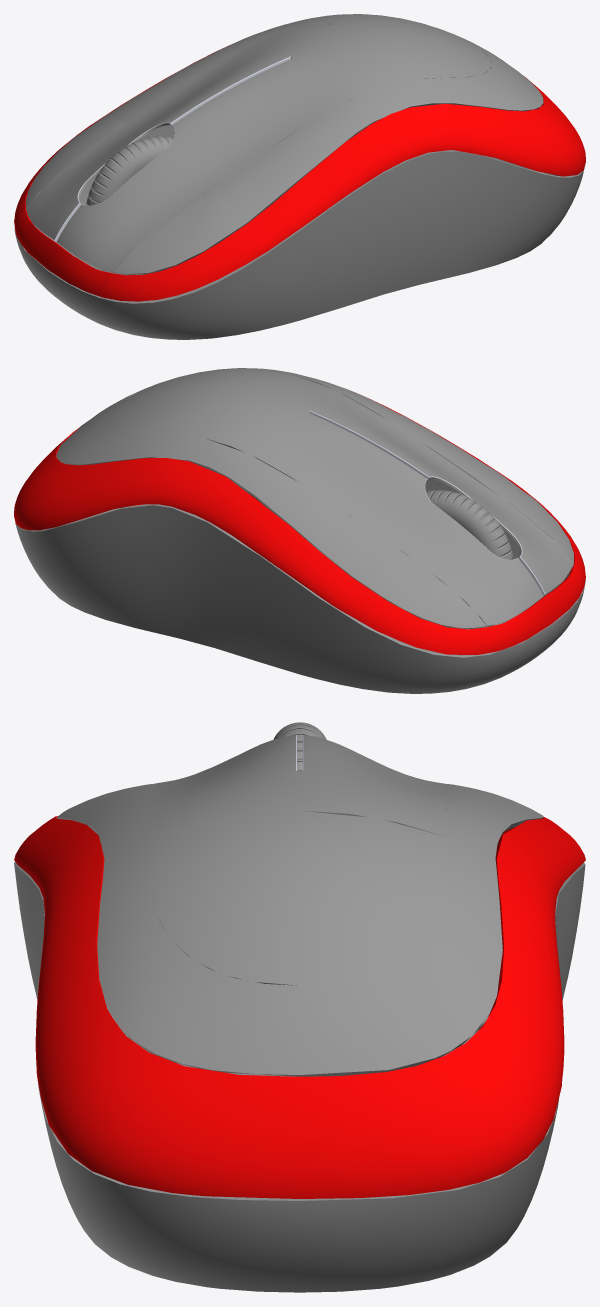
File: bluetooth_mouse.dae
3 renders of one model, top to bottom at view 1: azimuth 30°, elevation 25°; view 2: azimuth 150°, elevation 25°; view 3: azimuth 270°, elevation 25°, orthographic. The views are drawn at different scales.
Parts seen in each view (by area): view 1: mesh_1_bluetoot, mesh_4_Scale3_6_, mesh_2_Scale3_4_, mesh_3_Thicken23; view 2: mesh_1_bluetoot, mesh_4_Scale3_6_, mesh_2_Scale3_4_, mesh_3_Thicken23; view 3: mesh_1_bluetoot, mesh_4_Scale3_6_, mesh_2_Scale3_4_.
Part boxes in pixels (left/top/right/bottom): mesh_1_bluetoot: left=14, top=14, right=585, bottom=339; mesh_4_Scale3_6_: left=14, top=38, right=585, bottom=301; mesh_2_Scale3_4_: left=86, top=136, right=173, bottom=205; mesh_3_Thicken23: left=54, top=56, right=292, bottom=240; mesh_1_bluetoot: left=15, top=368, right=585, bottom=693; mesh_4_Scale3_6_: left=14, top=392, right=585, bottom=654; mesh_2_Scale3_4_: left=426, top=490, right=513, bottom=559; mesh_3_Thicken23: left=307, top=410, right=545, bottom=595; mesh_1_bluetoot: left=14, top=735, right=585, bottom=1292; mesh_4_Scale3_6_: left=14, top=816, right=585, bottom=1198; mesh_2_Scale3_4_: left=273, top=722, right=326, bottom=770.
Size of the model in its own units: 0.1283 by 0.0747 by 0.0486.
